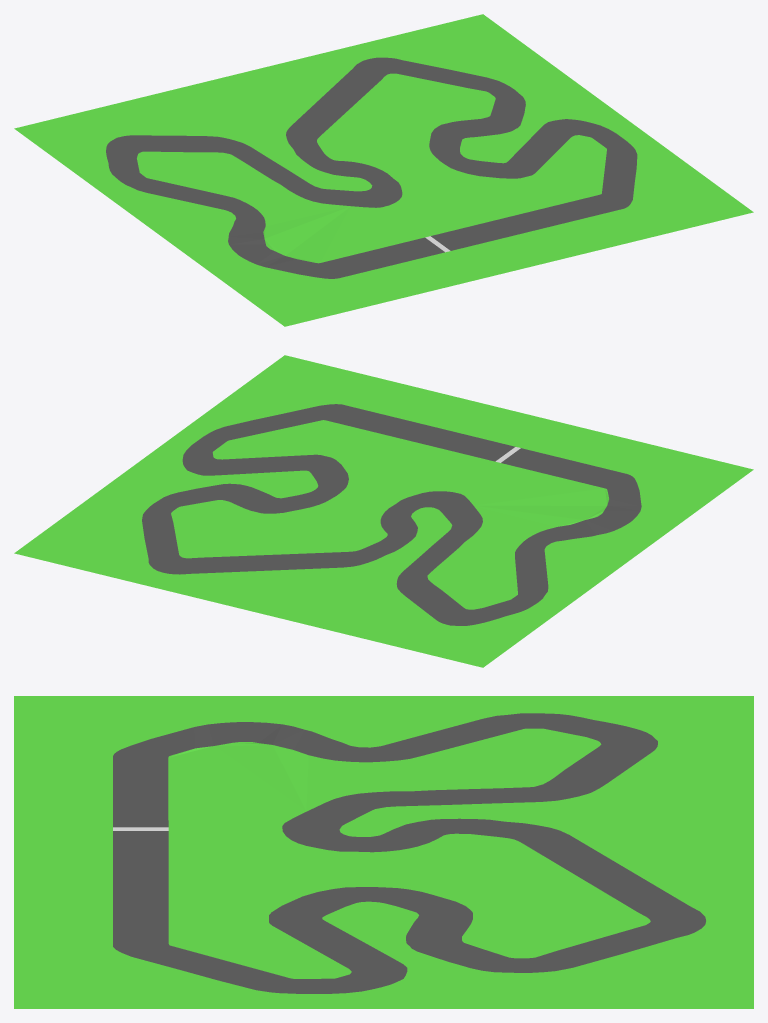
The model's file is pista plano1.fbx.
3 views of the same model, one above another, from view 1: azimuth 30°, elevation 25°; view 2: azimuth 150°, elevation 25°; view 3: azimuth 270°, elevation 25° (orthographic). The views are drawn at different scales.
Visible parts, largest first — view 1: Plano.003; view 2: Plano.003; view 3: Plano.003.
Part boxes in pixels (x1=…): Plano.003: x1=14, y1=14, x2=753, y2=326; Plano.003: x1=14, y1=355, x2=753, y2=667; Plano.003: x1=14, y1=696, x2=753, y2=1008.
Bounding box in the file's own units: 26337 × 64.05 × 26337.
